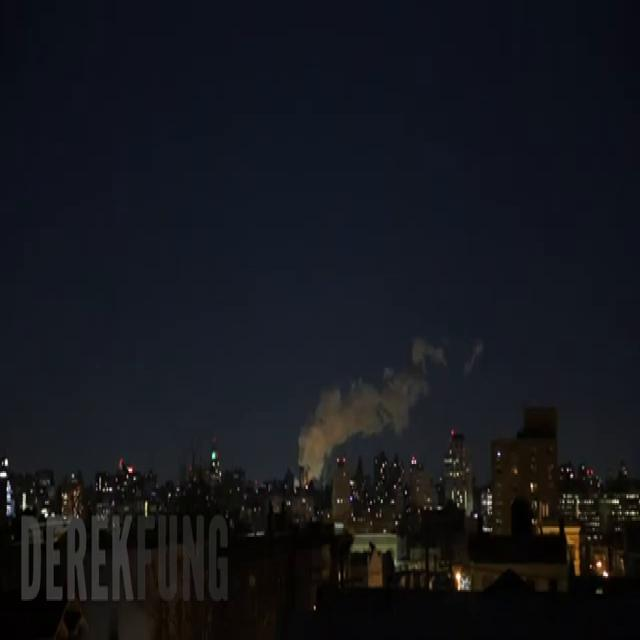smoke: (298, 338, 446, 478)
